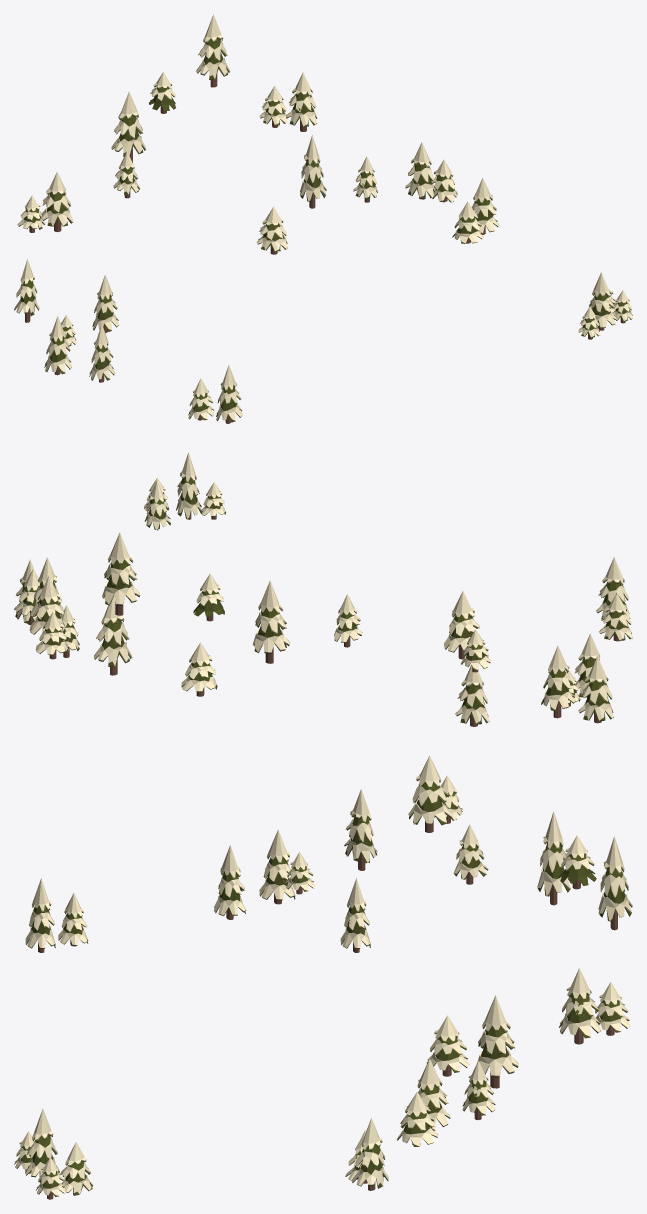
File: Trees.gltf
3 views of the same model, one above another, from view 1: azimuth 30°, elevation 25°; view 2: azimuth 150°, elevation 25°; view 3: azimuth 270°, elevation 25° (orthographic). The views are drawn at different scales.
Visible parts, largest first — view 1: Cone.024; view 2: Cone.024; view 3: Cone.024.
Part boxes in pixels (x1=…): Cone.024: x1=14, y1=14, x2=632, y2=423; Cone.024: x1=14, y1=452, x2=632, y2=726; Cone.024: x1=14, y1=755, x2=632, y2=1199.
Bounding box in the file's own units: 65.72 × 24.61 × 55.47.
1 material, 1 textured.
